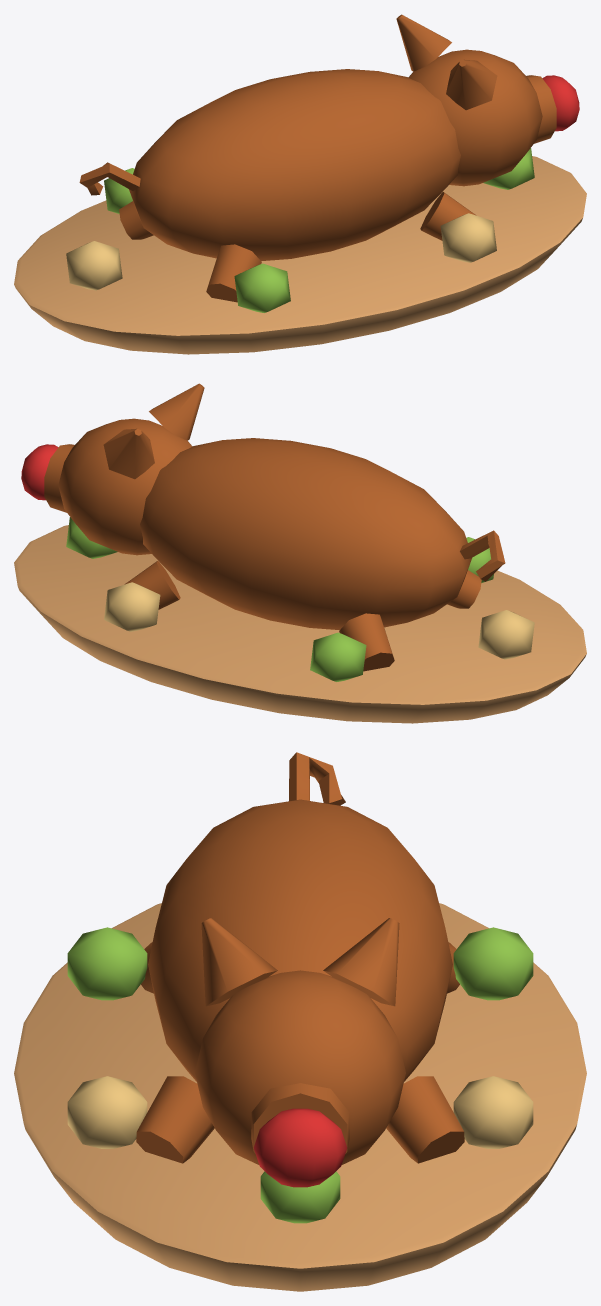
File: leitao_assado.glb
3 renders of one model, top to bottom at view 1: azimuth 30°, elevation 25°; view 2: azimuth 150°, elevation 25°; view 3: azimuth 270°, elevation 25°, orthographic. The views are drawn at different scales.
Parts seen in each view (by area): view 1: Leitao_Assado; view 2: Leitao_Assado; view 3: Leitao_Assado.
Part boxes in pixels (box(x1,y1,x2,y2)): Leitao_Assado: box(14, 14, 586, 354); Leitao_Assado: box(14, 383, 586, 723); Leitao_Assado: box(14, 752, 586, 1291).
Bounding box in the file's own units: 0.7925 × 0.2732 × 0.4885.
